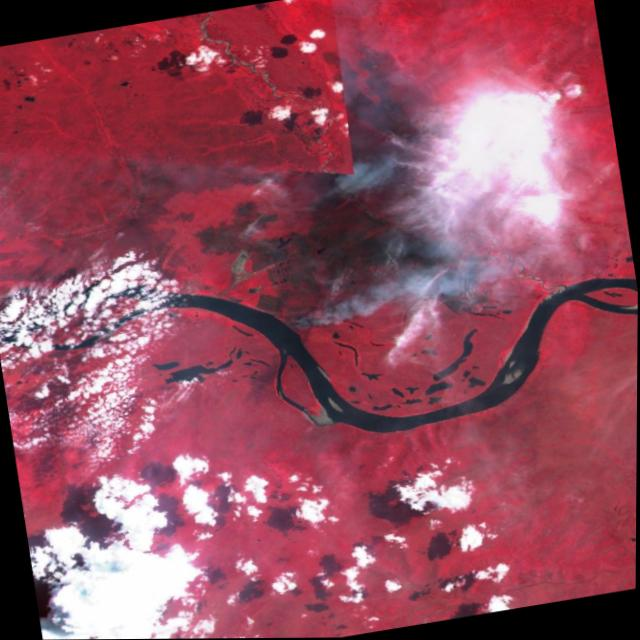fire: (308, 154, 379, 213), (276, 306, 329, 347)
